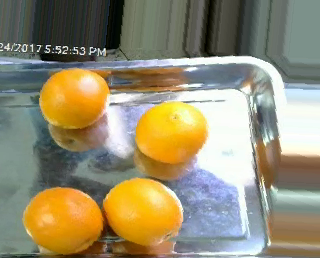Orange: (22, 185, 104, 253), (103, 176, 183, 244), (134, 101, 208, 165), (39, 67, 109, 127)
